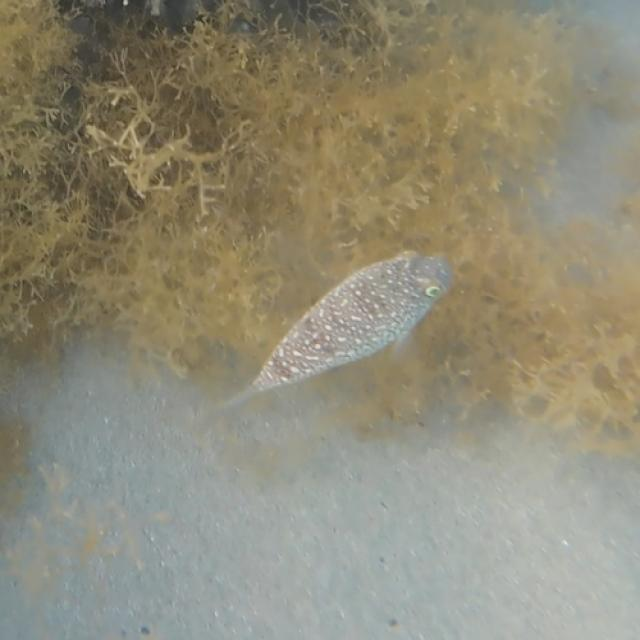Balik: (221, 252, 451, 408)
